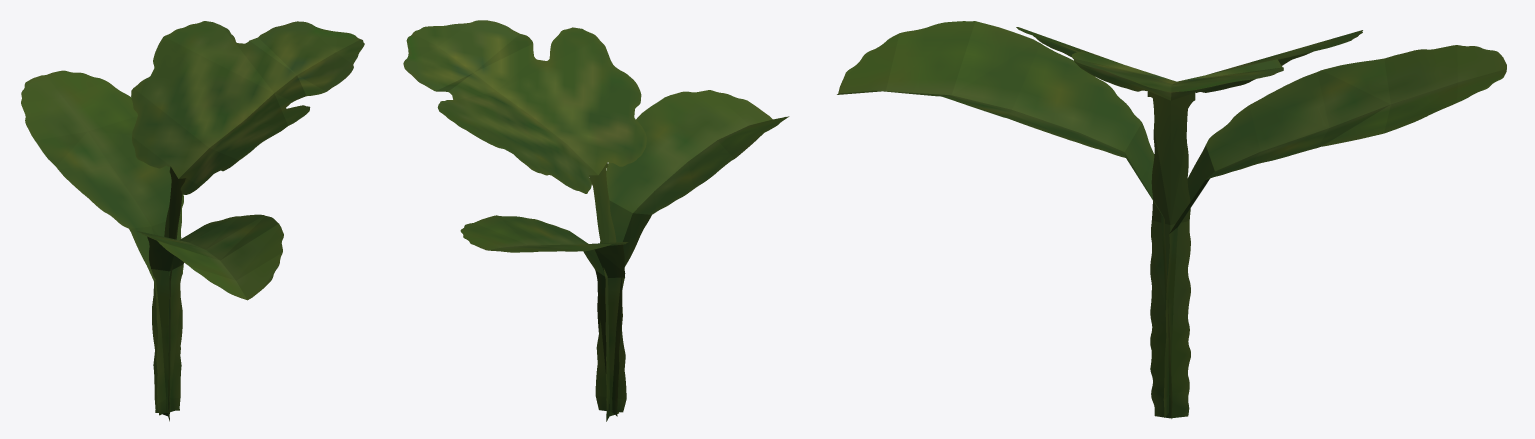
File: Watermelon_01.obj
3 renders of one model, left to right at view 1: azimuth 30°, elevation 25°; view 2: azimuth 150°, elevation 25°; view 3: azimuth 270°, elevation 25°, orthographic. The views are drawn at different scales.
Size of the model in its own units: 0.1777 by 0.1993 by 0.2725.
Materials: 1 (1 with a texture image).
